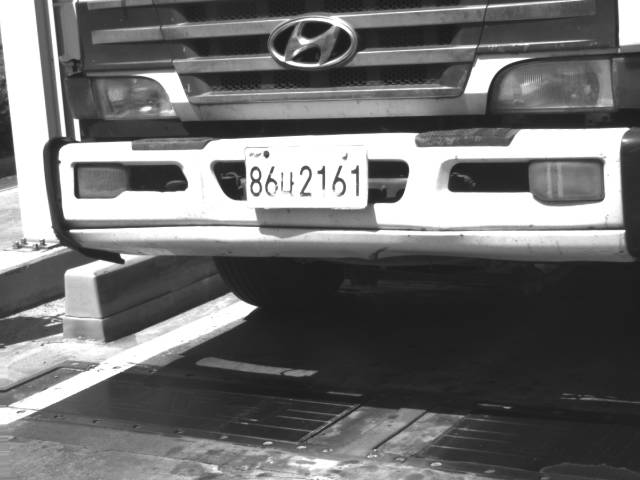car: (42, 1, 640, 311)
plate: (243, 146, 370, 211)
